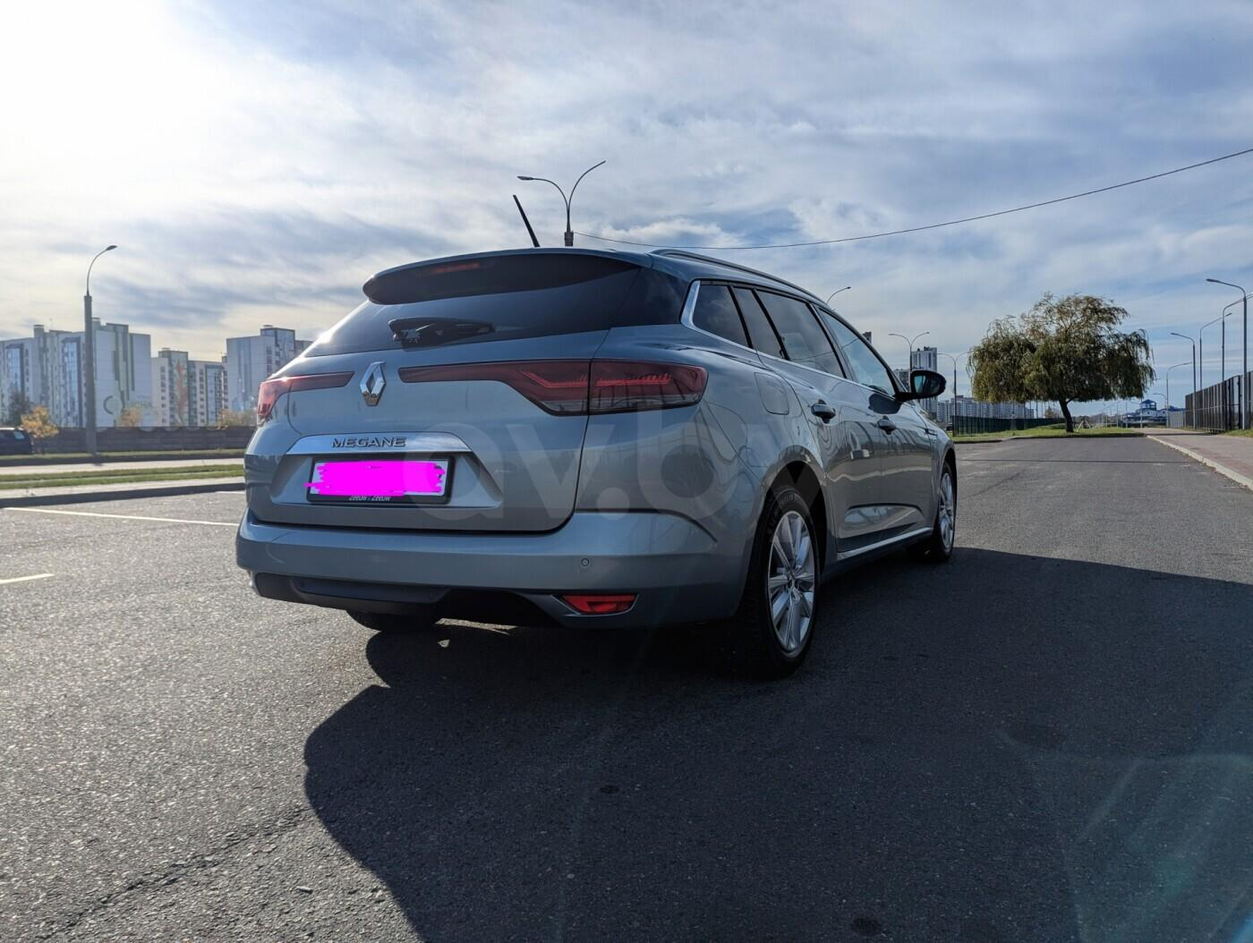Megane_2020: (229, 247, 965, 700)
